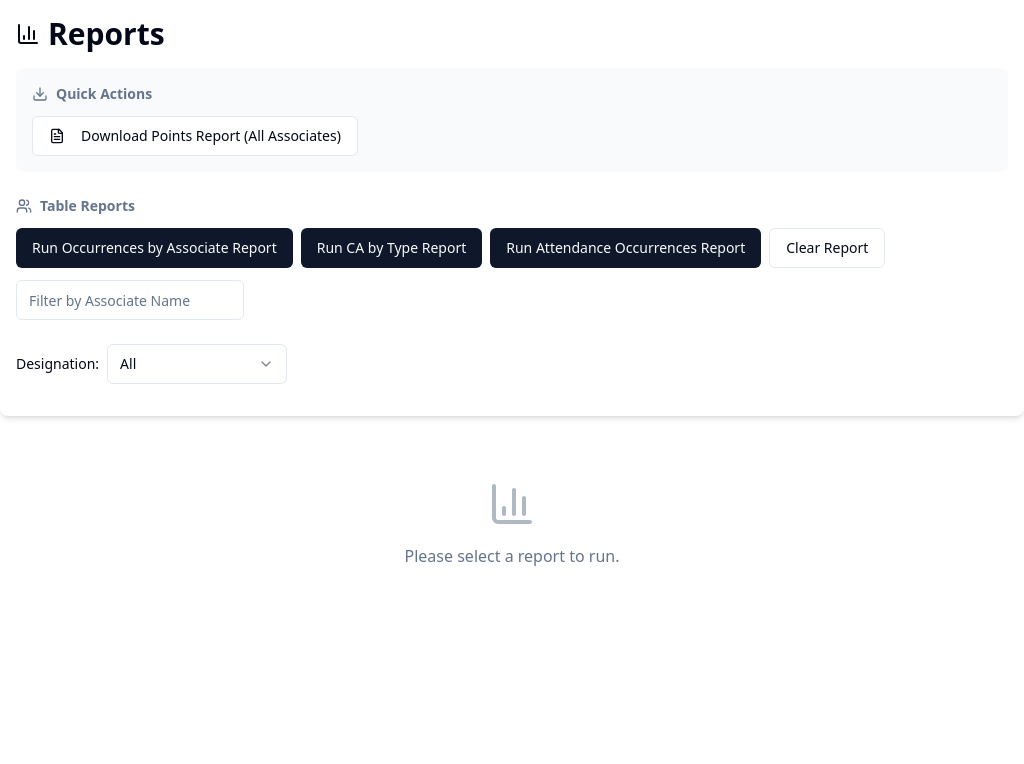
Scenario: ReportsPage › filters with API-shaped payloads that include info.isActive
The image size is (1024, 764).
Click the button "Run CA by Type Report" at (391, 248), box [301,228,482,268]
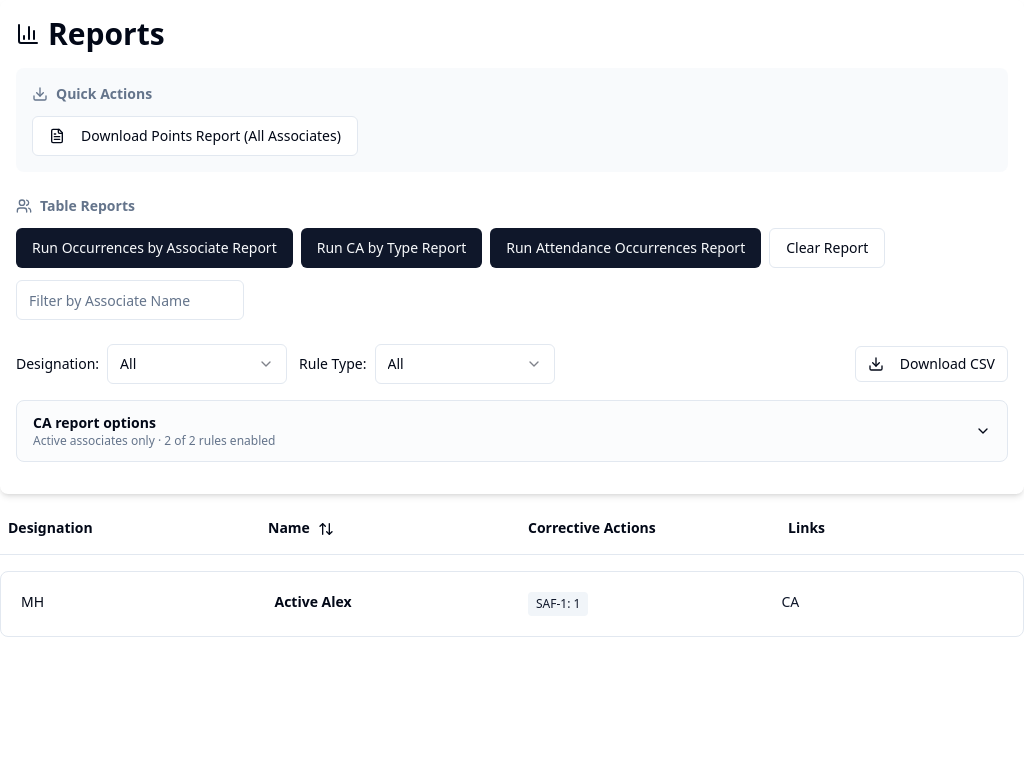
Expected: the text "Inactive Irene" is not shown
Now the text "Active Alex" is shown, box [274,592,352,611]
Now the text "Active associates only · 2 of 2 rules enabled" is shown, box [33,433,275,449]
Click the button "CA report options" at (94, 422), box [17,401,1007,461]
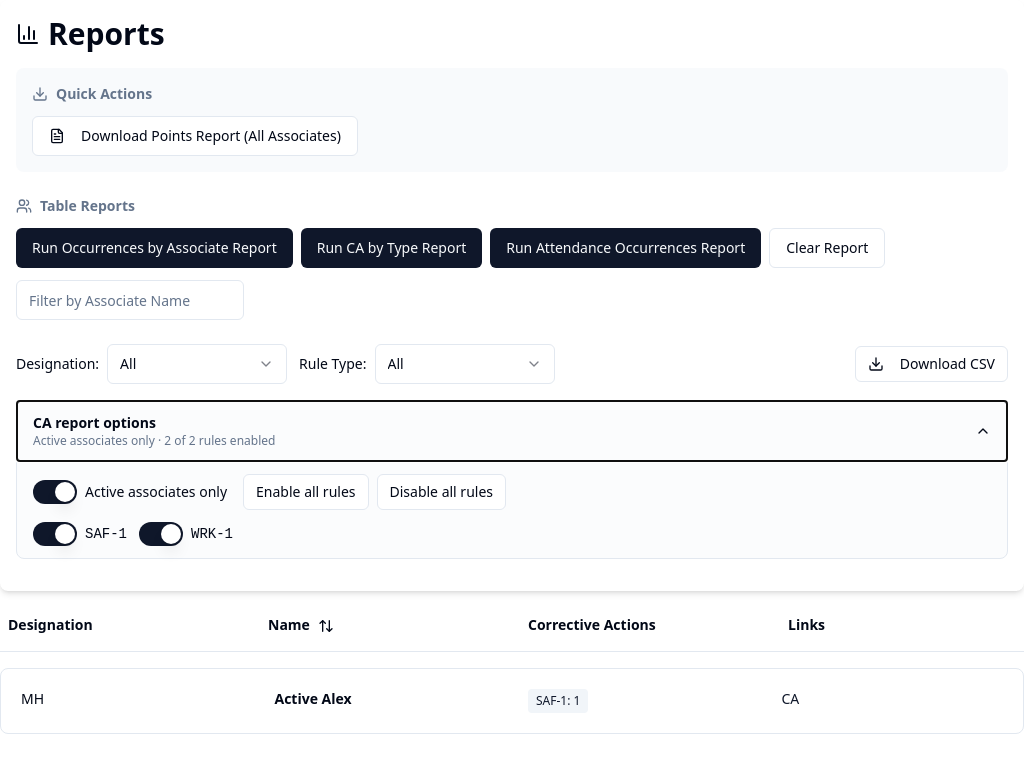
Now the 1st switch named "active associates only" is checked
Now the 2nd switch named "SAF-1" is checked, box [33,522,77,546]
Click the 1st switch named "active associates only" at (55, 492), box [33,480,77,504]
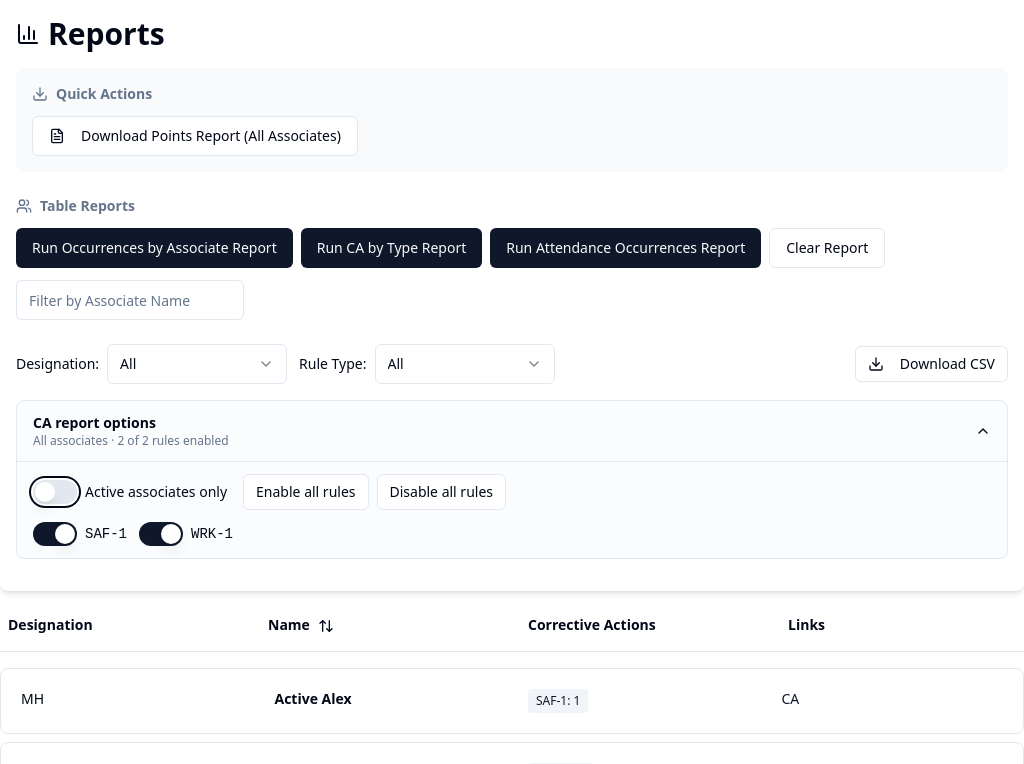
Now the text "Active Alex" is shown, box [274,689,352,708]
Now the text "All associates · 2 of 2 rules enabled" is shown, box [33,433,228,449]
